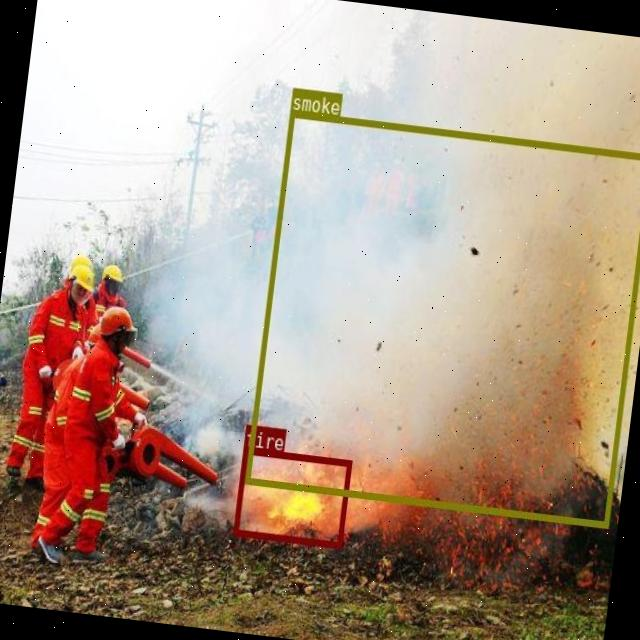fire: (232, 446, 352, 546)
smoke: (244, 108, 640, 526)
